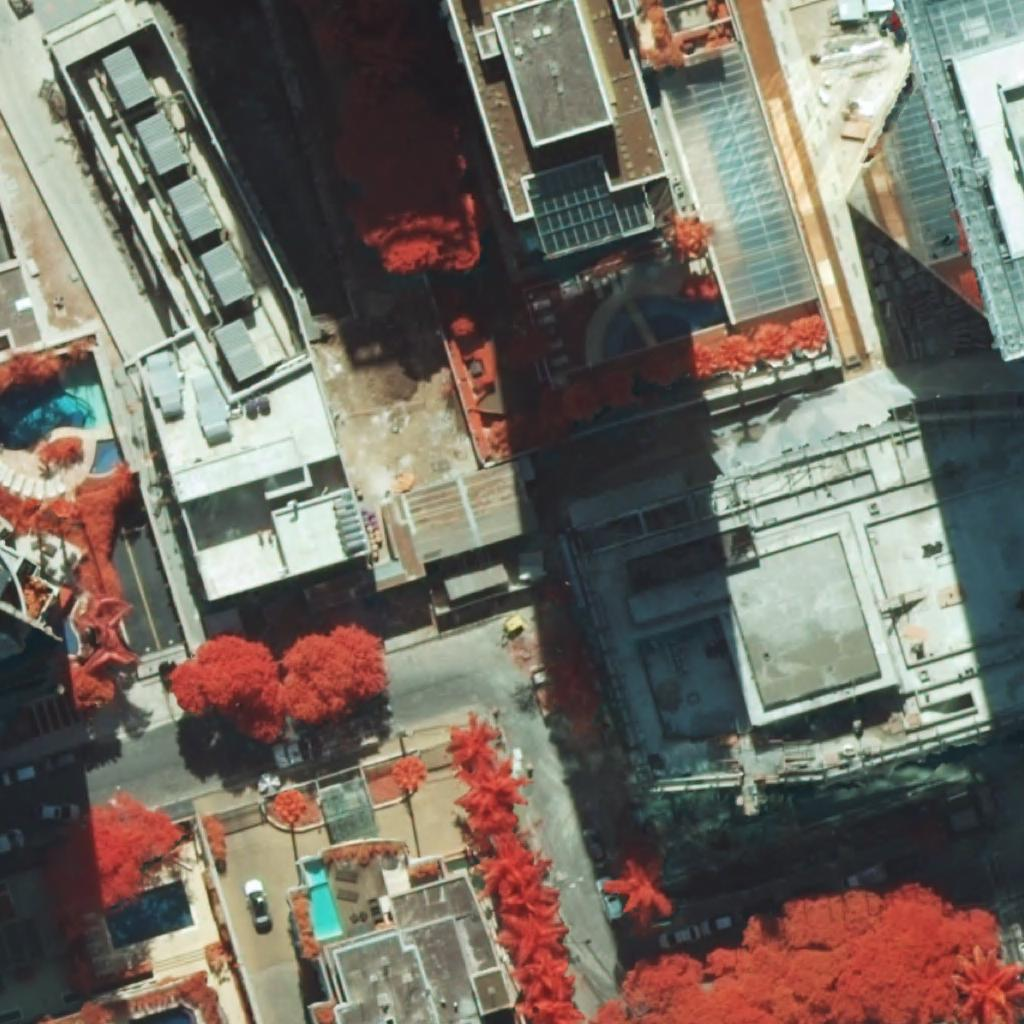pool: (0, 375, 97, 450), (602, 295, 706, 359), (105, 880, 194, 950), (304, 859, 343, 939), (129, 1005, 198, 1024), (89, 438, 125, 474)
